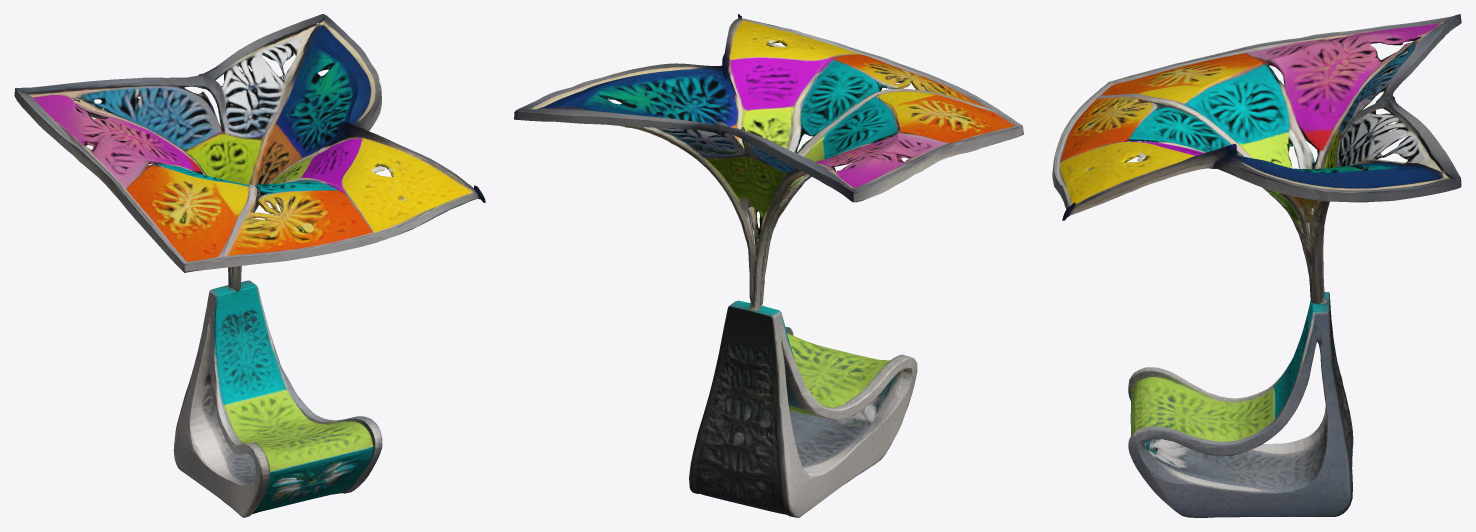
File: Chromatic Lounger.glb
3 renders of one model, left to right at view 1: azimuth 30°, elevation 25°; view 2: azimuth 150°, elevation 25°; view 3: azimuth 270°, elevation 25°, orthographic. The views are drawn at different scales.
Parts seen in each view (by area): view 1: world; view 2: world; view 3: world.
Part boxes in pixels (left/top/right/bottom): world: left=14, top=14, right=485, bottom=517; world: left=514, top=14, right=1023, bottom=517; world: left=1052, top=14, right=1461, bottom=517.
Bounding box in the file's own units: 0.893 × 1 × 0.9295.
Materials: 1 (1 with a texture image).
